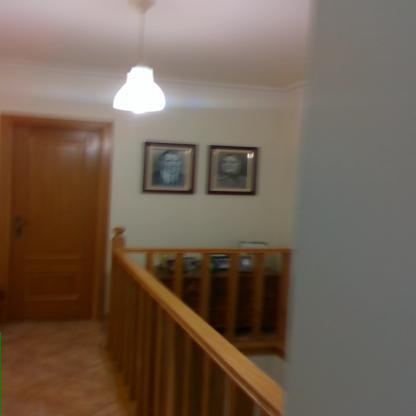door: (10, 123, 99, 317)
